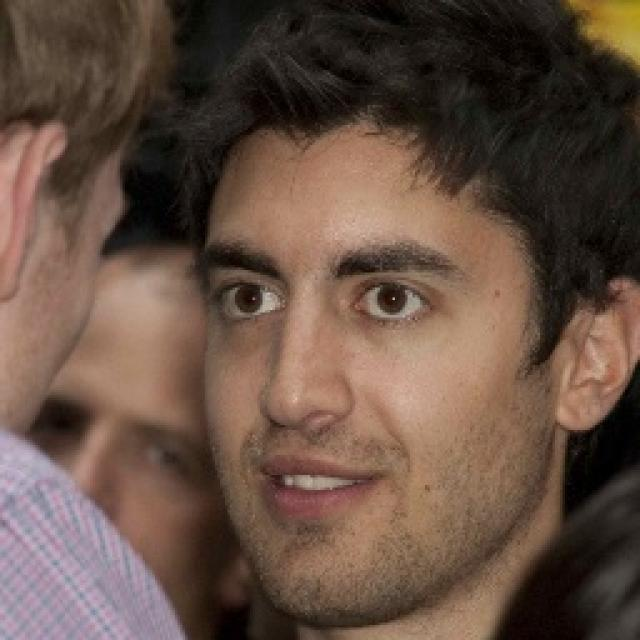earlobe: (558, 400, 605, 433), (0, 250, 21, 309)
eye: (350, 278, 426, 322), (215, 284, 285, 319), (136, 440, 189, 472)
nose: (265, 407, 347, 458)
wholeear: (0, 119, 68, 310), (560, 277, 640, 432)
